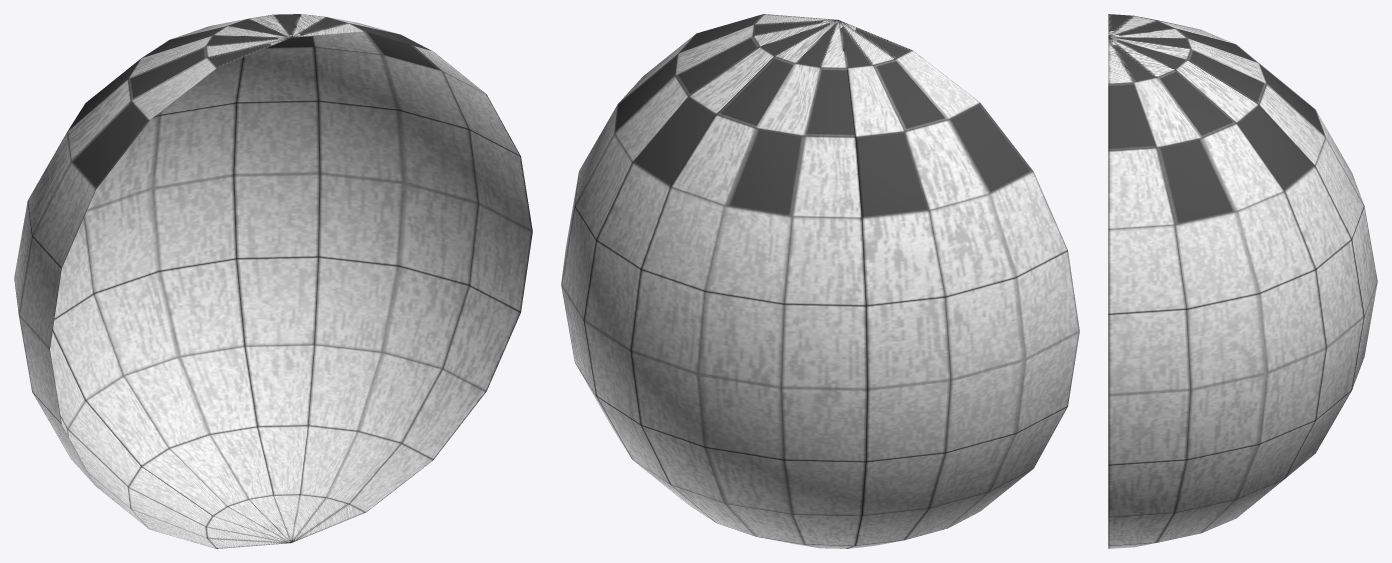
The model's file is Pad_Edge.obj.
3 renders of one model, left to right at view 1: azimuth 30°, elevation 25°; view 2: azimuth 150°, elevation 25°; view 3: azimuth 270°, elevation 25°, orthographic. The views are drawn at different scales.
Parts seen in each view (by area): view 1: default; view 2: default; view 3: default.
Part boxes in pixels (x1=…): default: x1=14, y1=14, x2=532, y2=548; default: x1=561, y1=14, x2=1079, y2=548; default: x1=1108, y1=14, x2=1377, y2=548.
Size of the model in its own units: 1 by 1 by 0.5.
